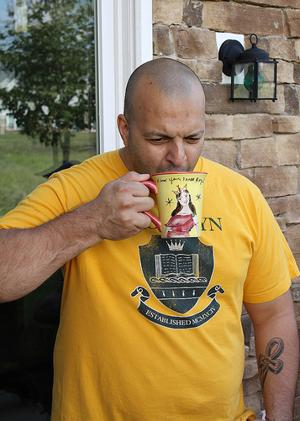person: (1, 56, 300, 421)
